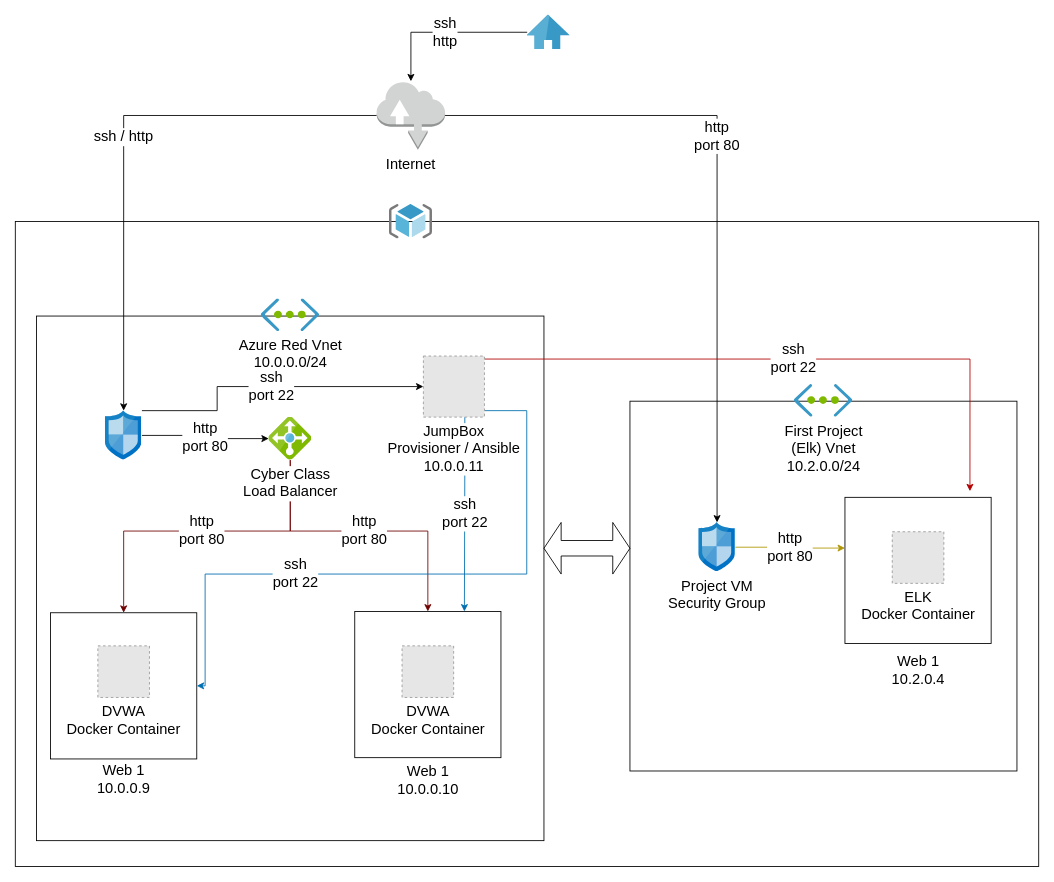
Some shapes in this 1054 by 882 pixel diagram are drawn without their labels. Grey dashed boxes stand in for pictures. The centre of each missing label's shape, as x and y in pixels:
Azure Red Security Group: [123,435]
Home: [548,32]
Peering: [586,548]
Red Team Resource Group: [410,221]
